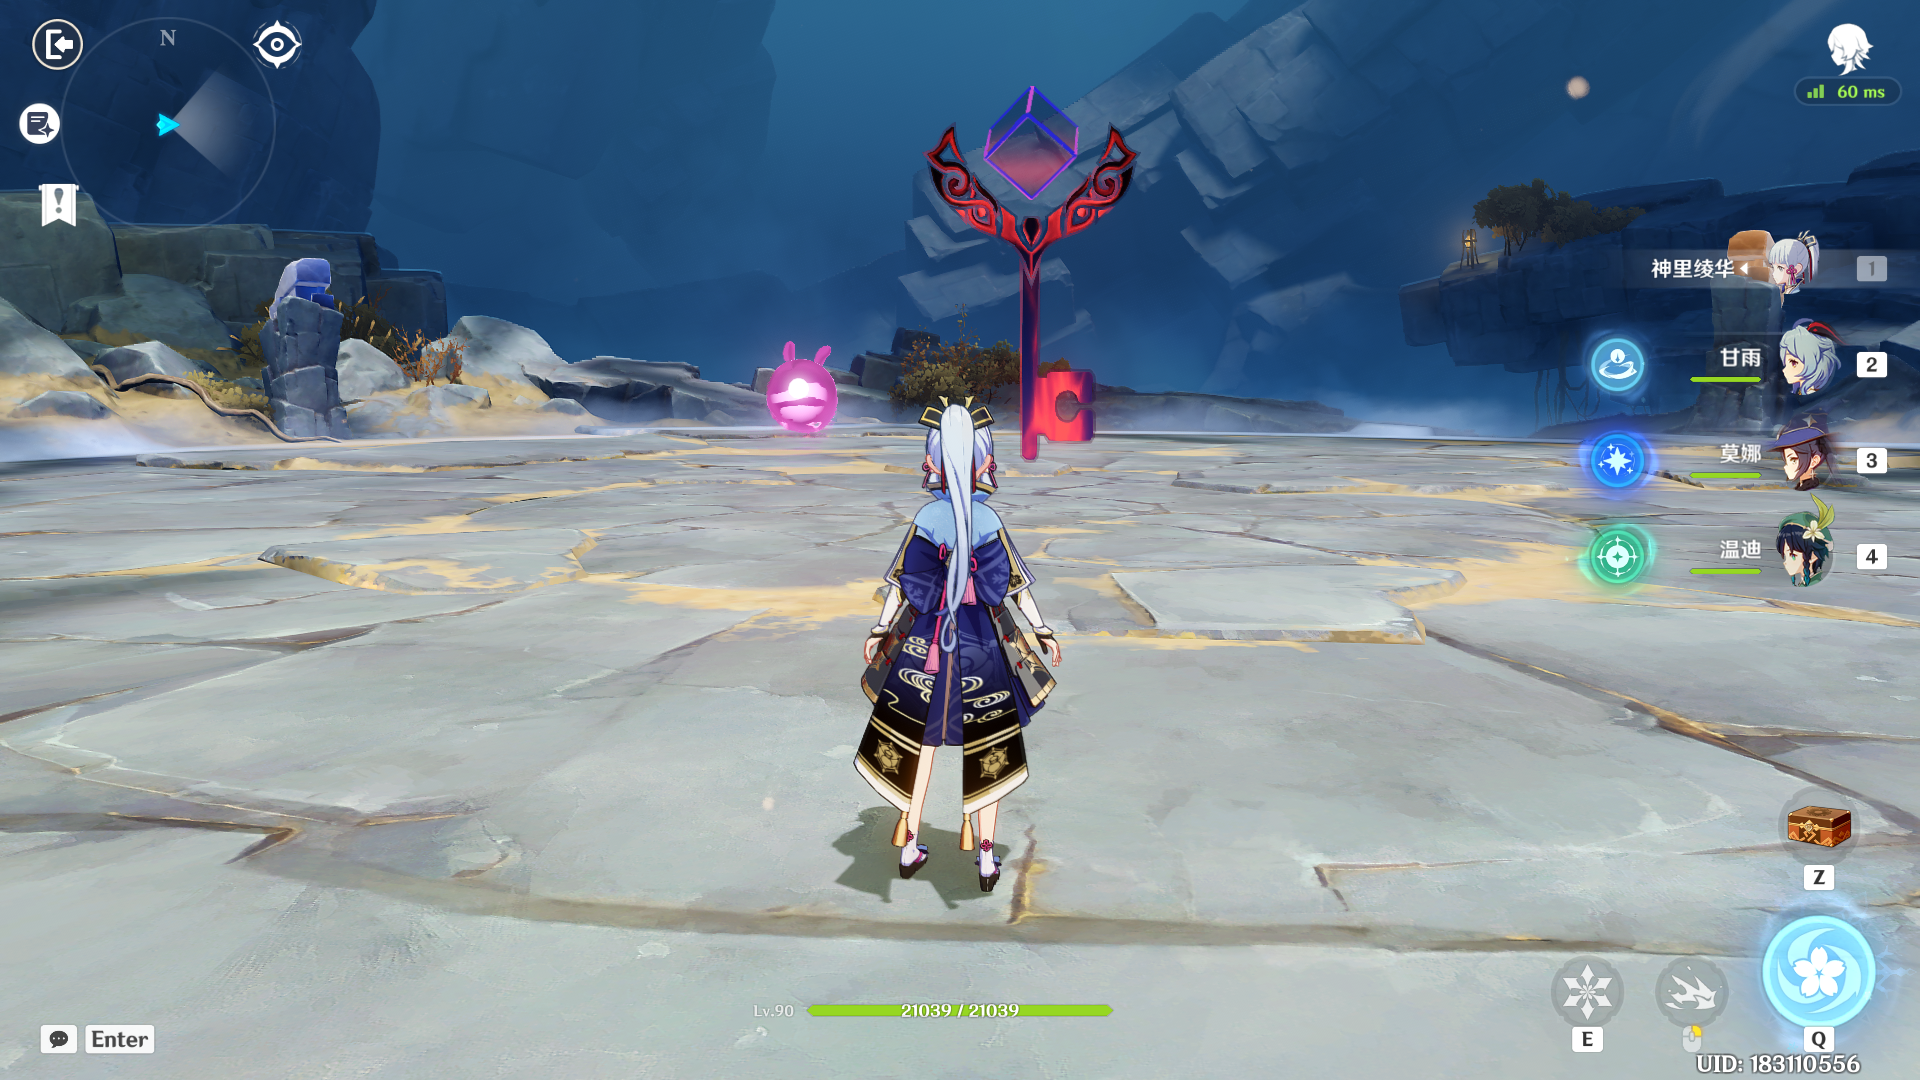character: (777, 357, 1105, 916)
